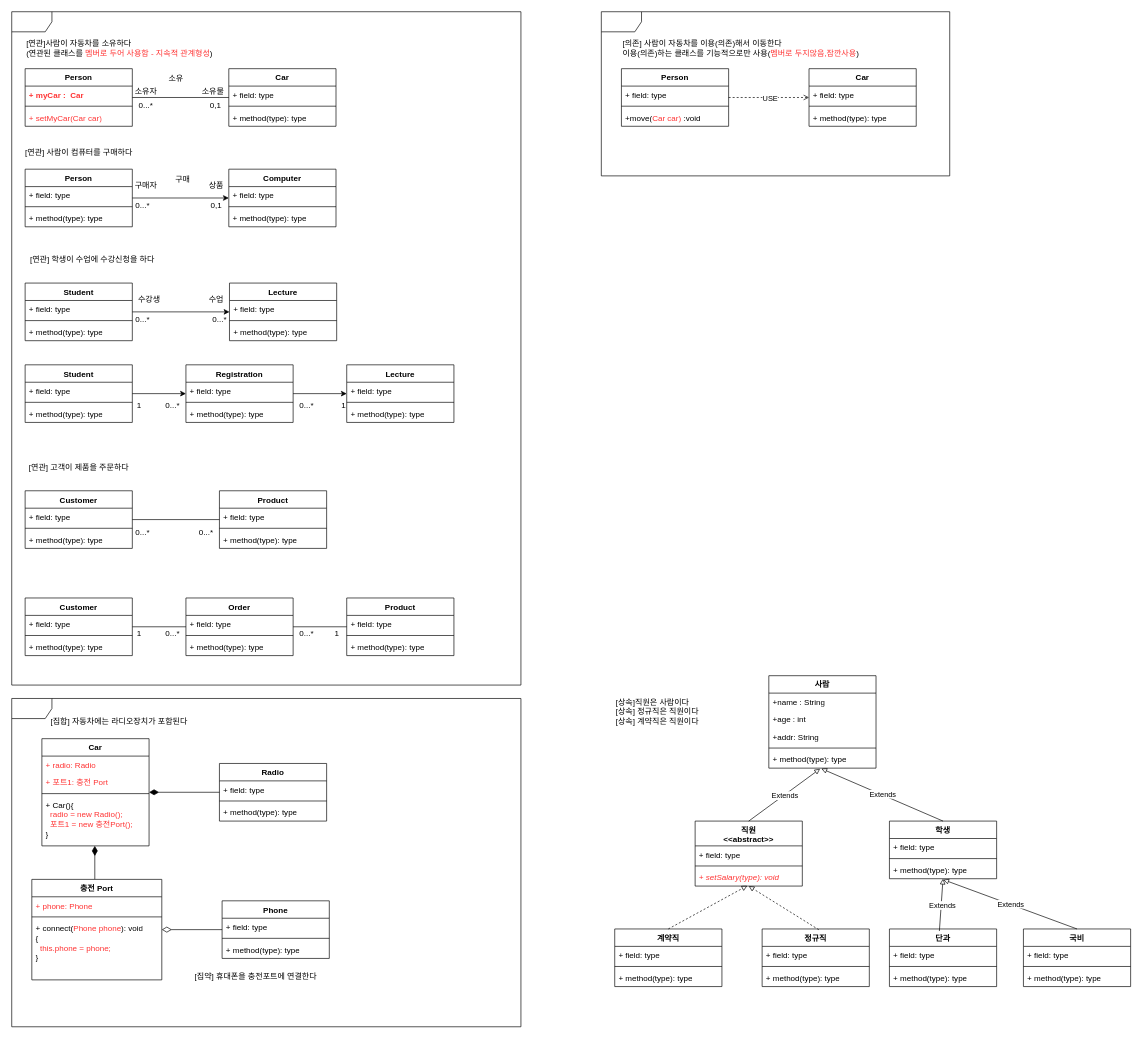
The diagram is 1142 pixels wide and 1039 high, and some of its shapes have lost their labels. The shapes that lost their labels are listed below. From the top down, each one's centre as x and y in pixels, then its label:
the point at 775,93: 의존관계
the point at 266,348: 연관관계
the point at 266,862: 집합/집약
